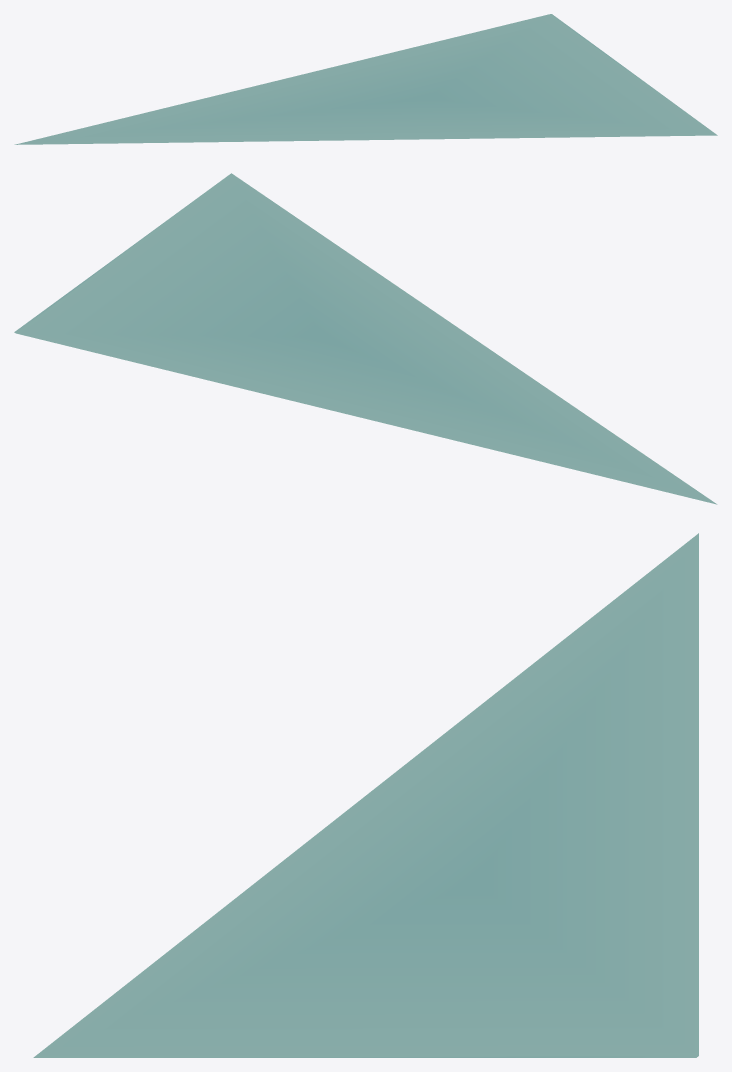
The model's file is water-17-5.glb.
3 renders of one model, top to bottom at view 1: azimuth 30°, elevation 25°; view 2: azimuth 150°, elevation 25°; view 3: azimuth 270°, elevation 25°, orthographic. The views are drawn at different scales.
Bounding box in the file's own units: 11.47 × 0 × 6.15.
